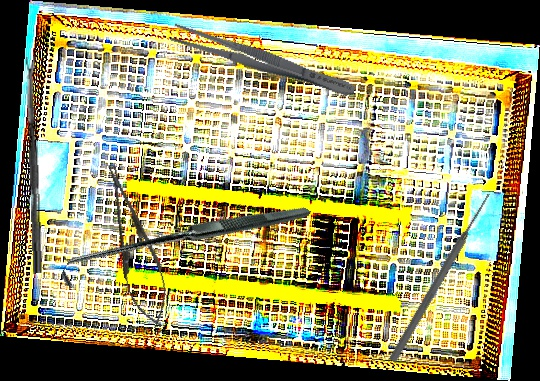Dressing Forceps: (168, 20, 359, 103)
Hook Surgical: (57, 121, 312, 371)
Needle Holder: (93, 158, 178, 333)
Pusher: (387, 189, 495, 365)
Surgical Spoon: (25, 56, 44, 274)
